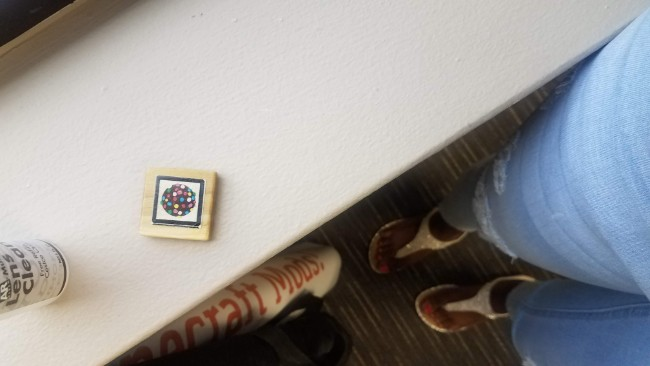cookie: (143, 172, 210, 231)
